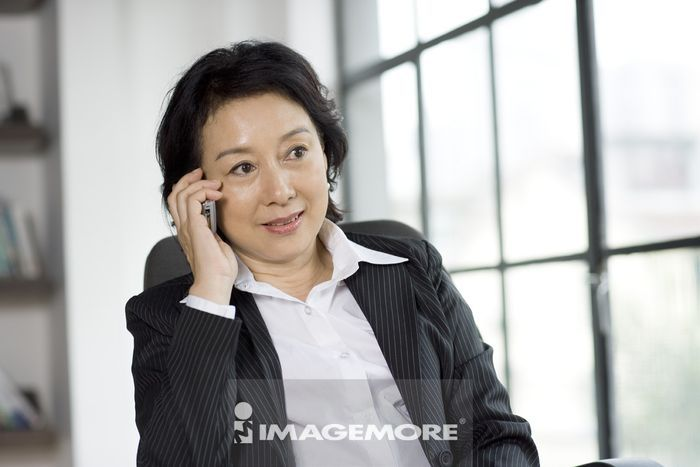talk: (168, 124, 321, 293)
